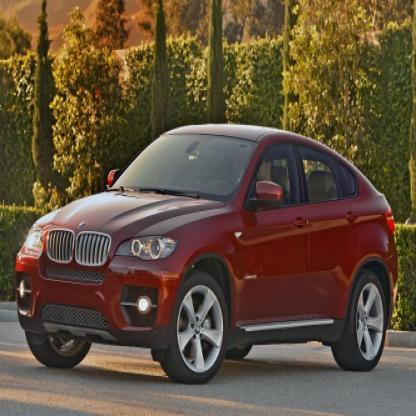Vehicle: (17, 125, 401, 387)
